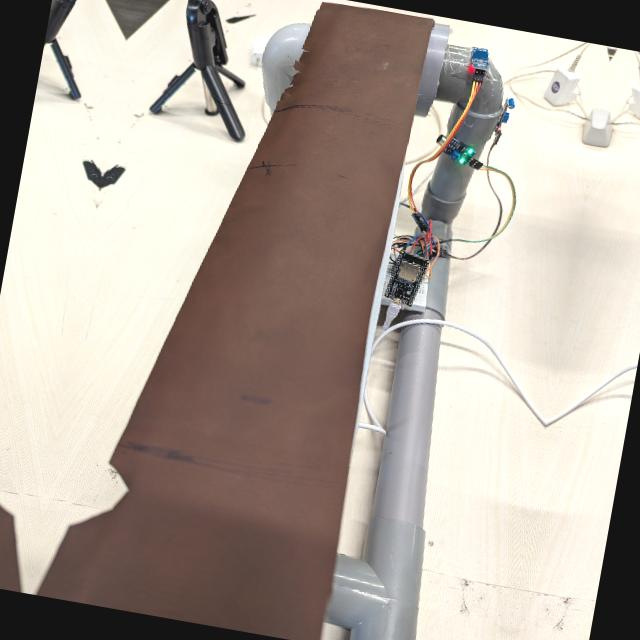belt_tear: (64, 449, 144, 545), (0, 435, 30, 525)
edge_damage: (267, 32, 321, 123)
